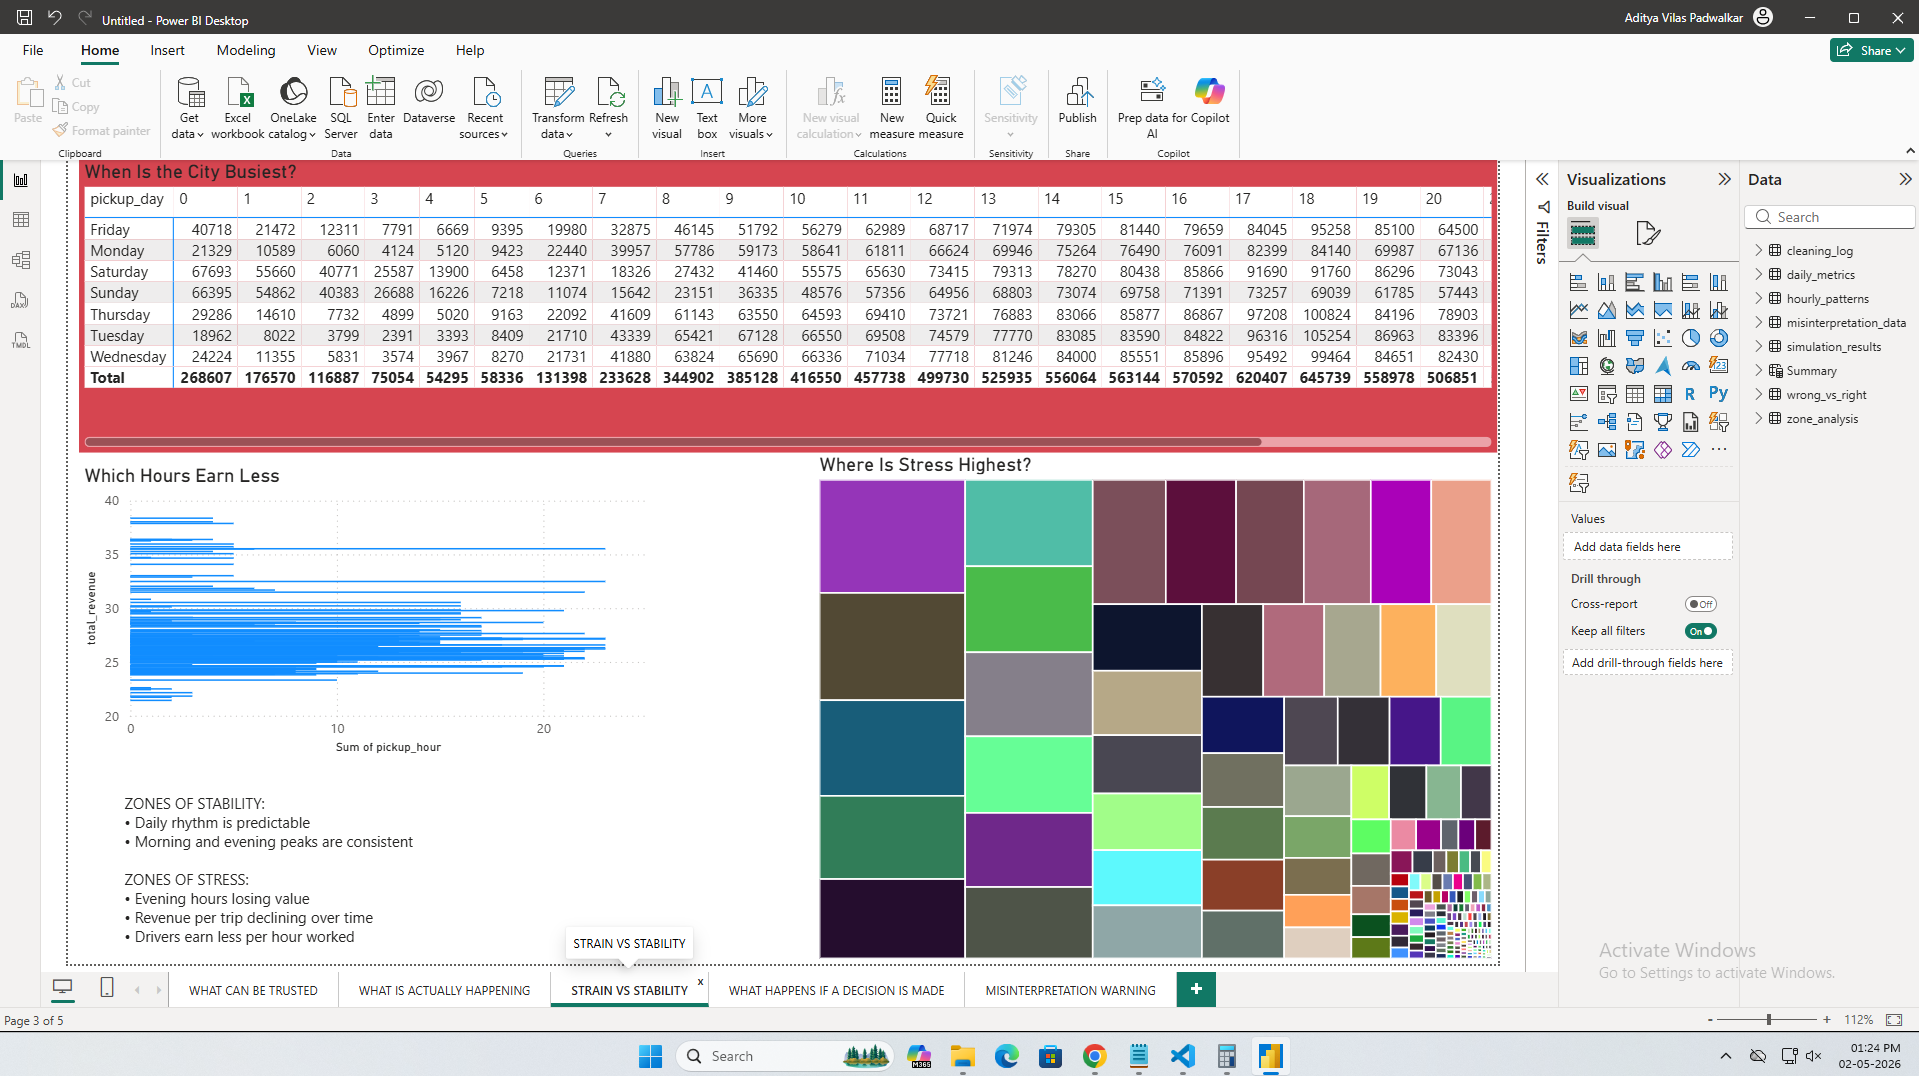

The dashboard page shown, as its layout file describes it:
{"tool":"powerbi","page":{"name":"STRAIN VS STABILITY","canvas":[1280,720],"ordinal":2},"visuals":[{"type":"pivotTable","title":"When Is the City Busiest?","fields":{"Rows":["hourly_patterns.pickup_day"],"Columns":["hourly_patterns.pickup_hour"],"Values":["Sum(hourly_patterns.trip_count)"]},"box":[9.9,0,1269.9,262.4],"z":0},{"type":"barChart","title":"Which Hours Earn Less","fields":{"Y":["Sum(hourly_patterns.pickup_hour)"],"Category":["hourly_patterns.total_revenue"]},"box":[9.9,272.2,520.3,264.2],"z":1},{"type":"treemap","title":"Where Is Stress Highest?","fields":{"Group":["zone_analysis.zone_id"],"Values":["Avg(zone_analysis.trip_count)"]},"box":[668.1,262.4,611.6,457.6],"z":2},{"type":"textbox","box":[45.7,562.4,474.6,157.6],"z":3}]}

Visuals, with their boxes on the page's 1280x720 design canvas (x1, y1, x2, y2). These are canvas units, not pixel positions in the 1919x1076 screenshot, which may show the page scaled, cropped or inside an application window:
"When Is the City Busiest?" pivotTable: 10, 0, 1280, 262
"Which Hours Earn Less" barChart: 10, 272, 530, 536
"Where Is Stress Highest?" treemap: 668, 262, 1280, 720
textbox: 46, 562, 520, 720
